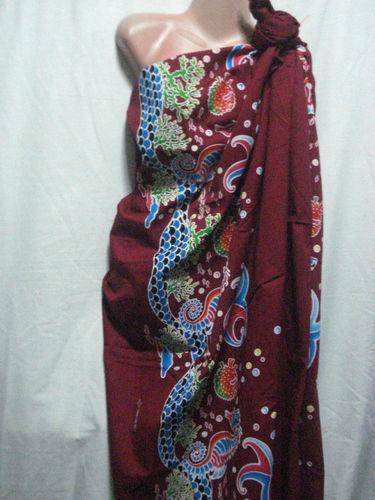malong: (88, 37, 357, 500)
